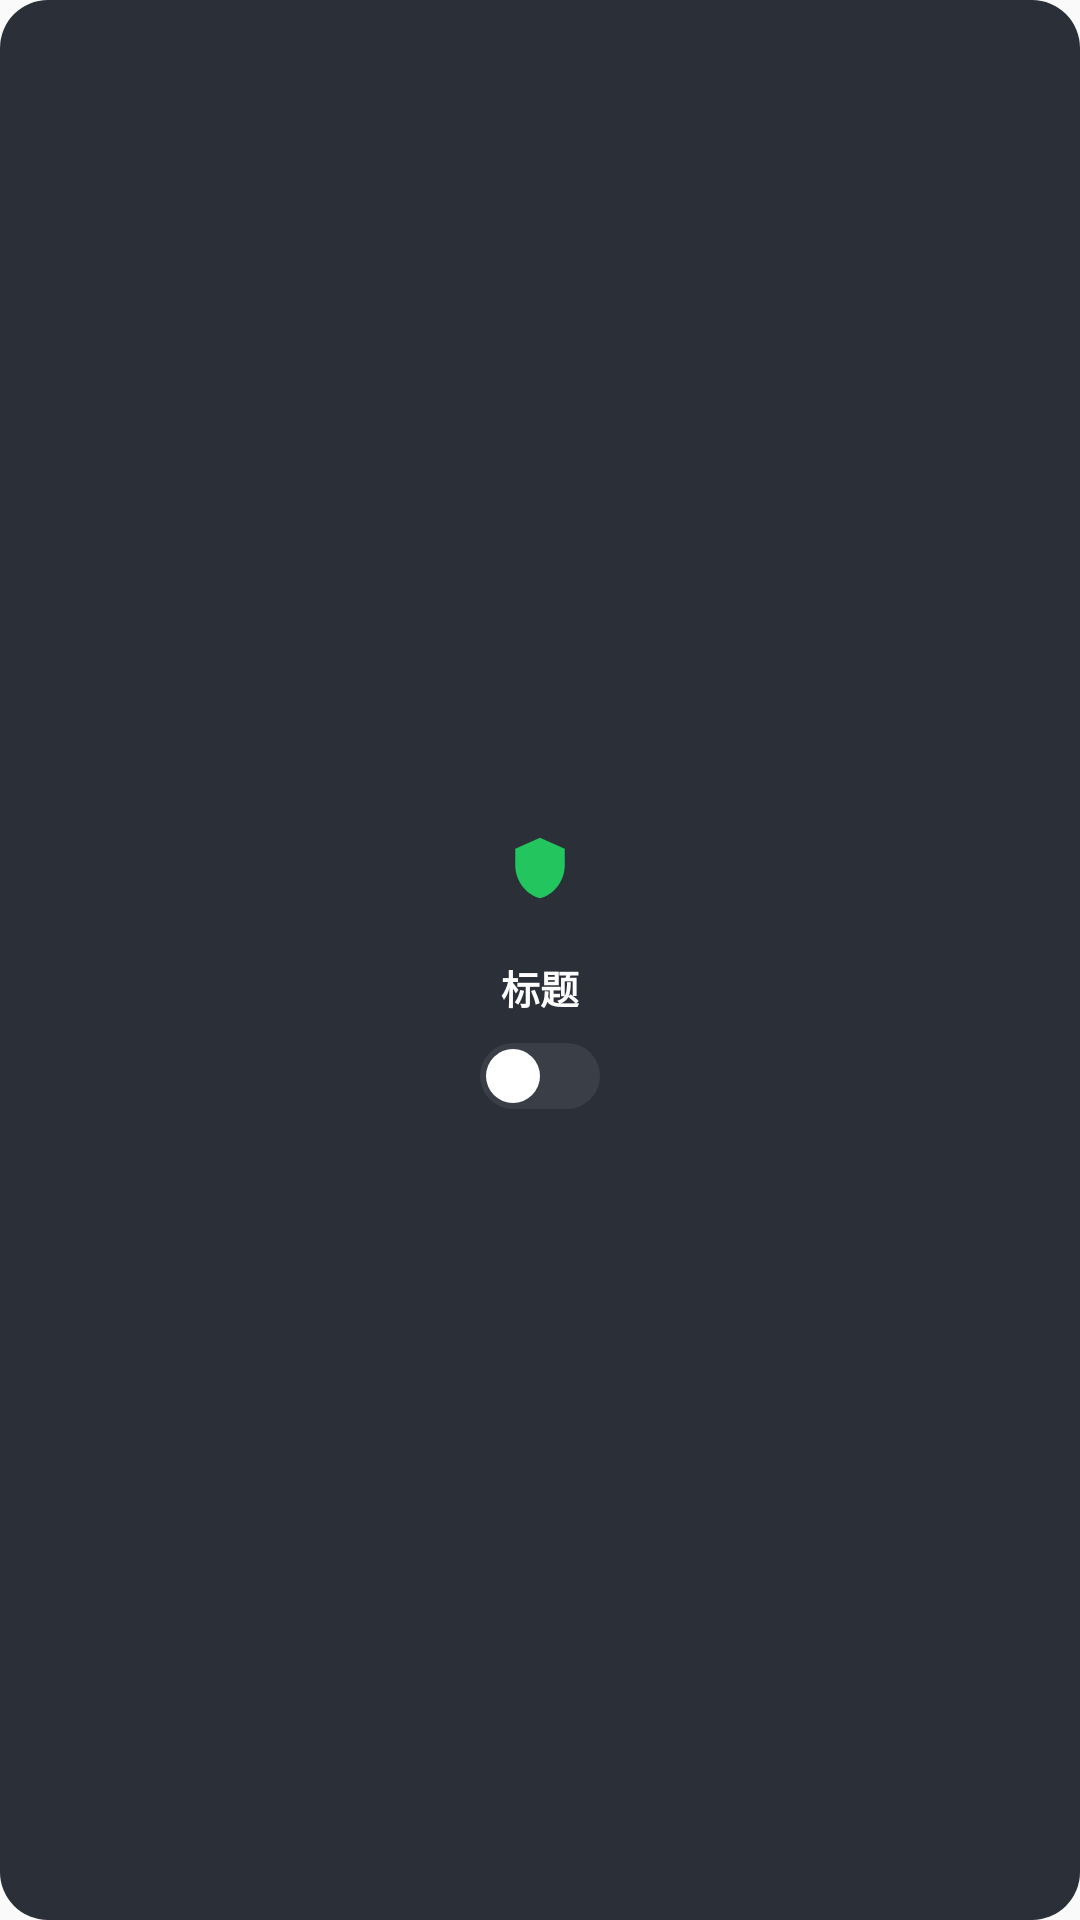

Icons on this 1080*1920 Android screen, each with the point to tap as point (x, y):
shield: point (540, 868)
